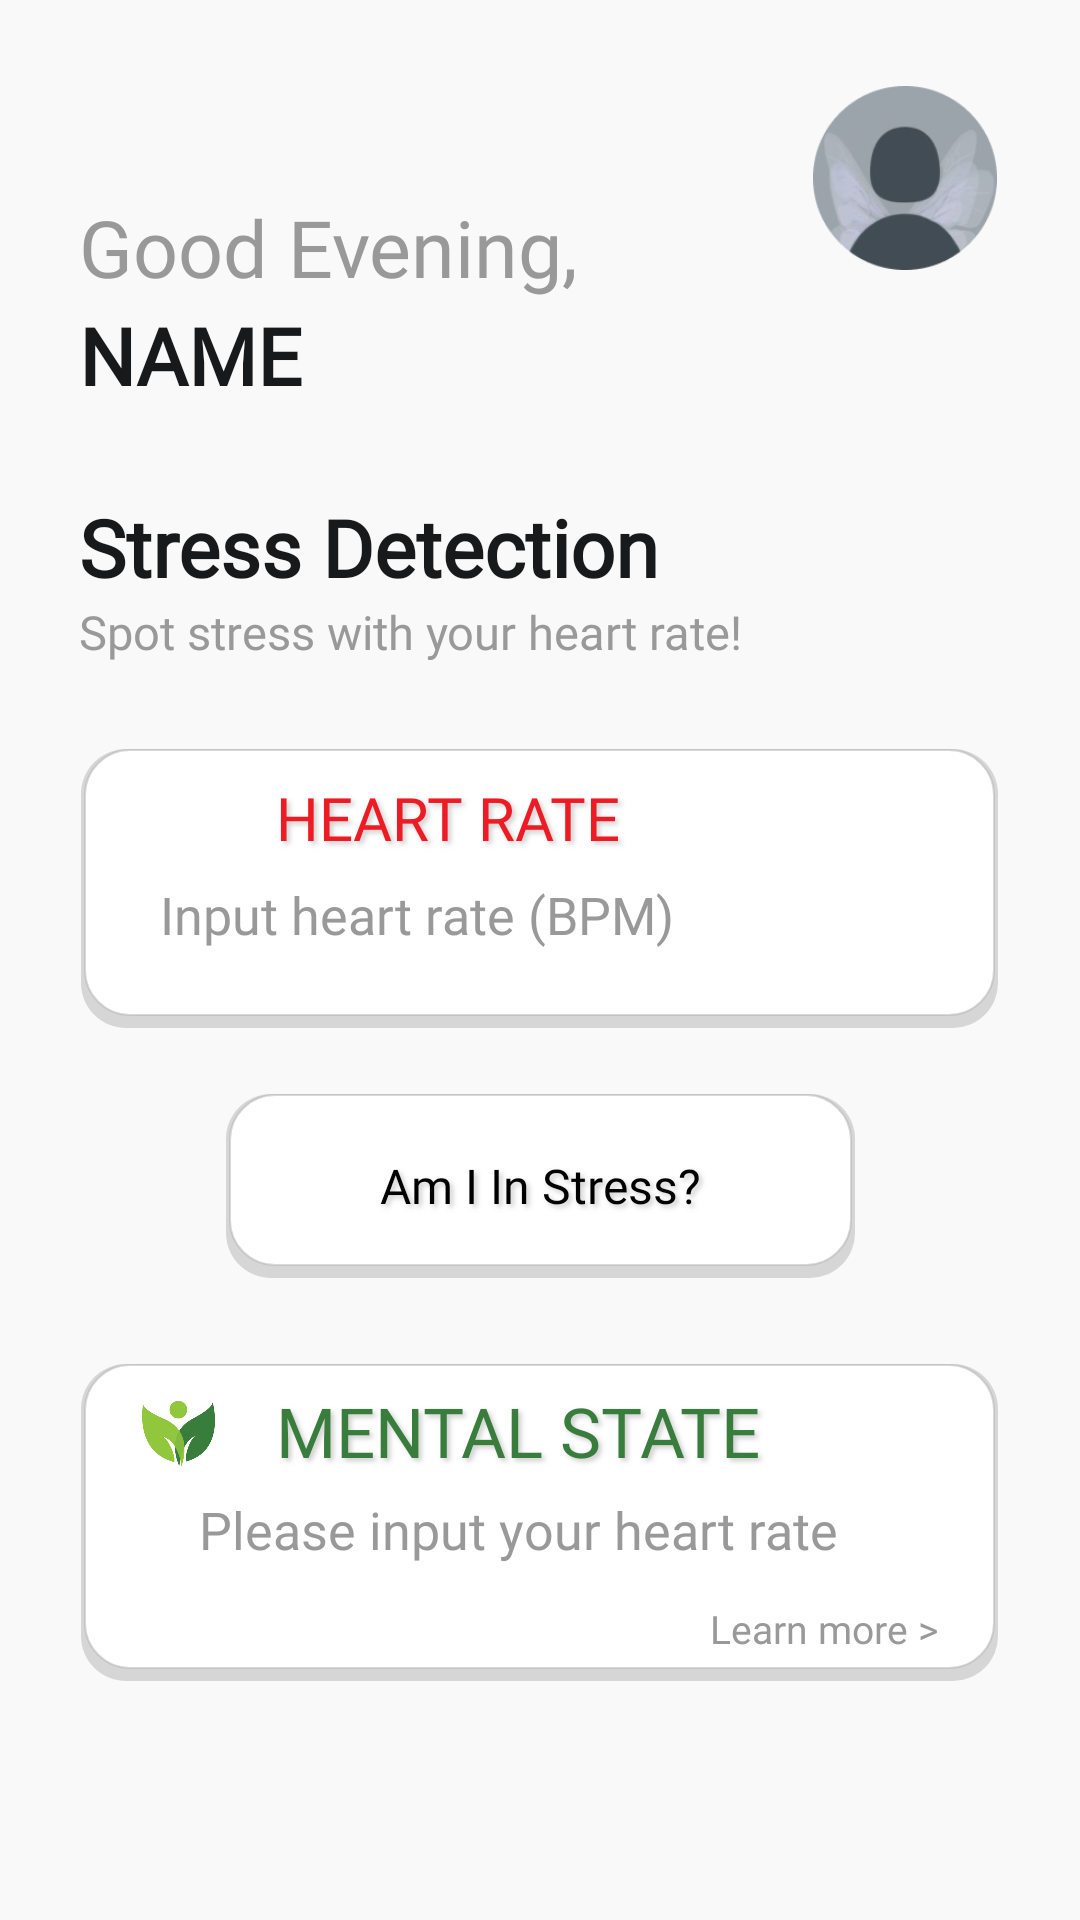

Named icons in this screenshot (1080x1920) and their bounding boxes, (x1, y1, x2, y2):
profilepic: (813, 86, 997, 270)
